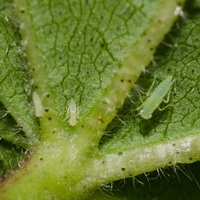insect: (0, 0, 199, 199), (1, 77, 29, 130), (139, 75, 173, 118)
